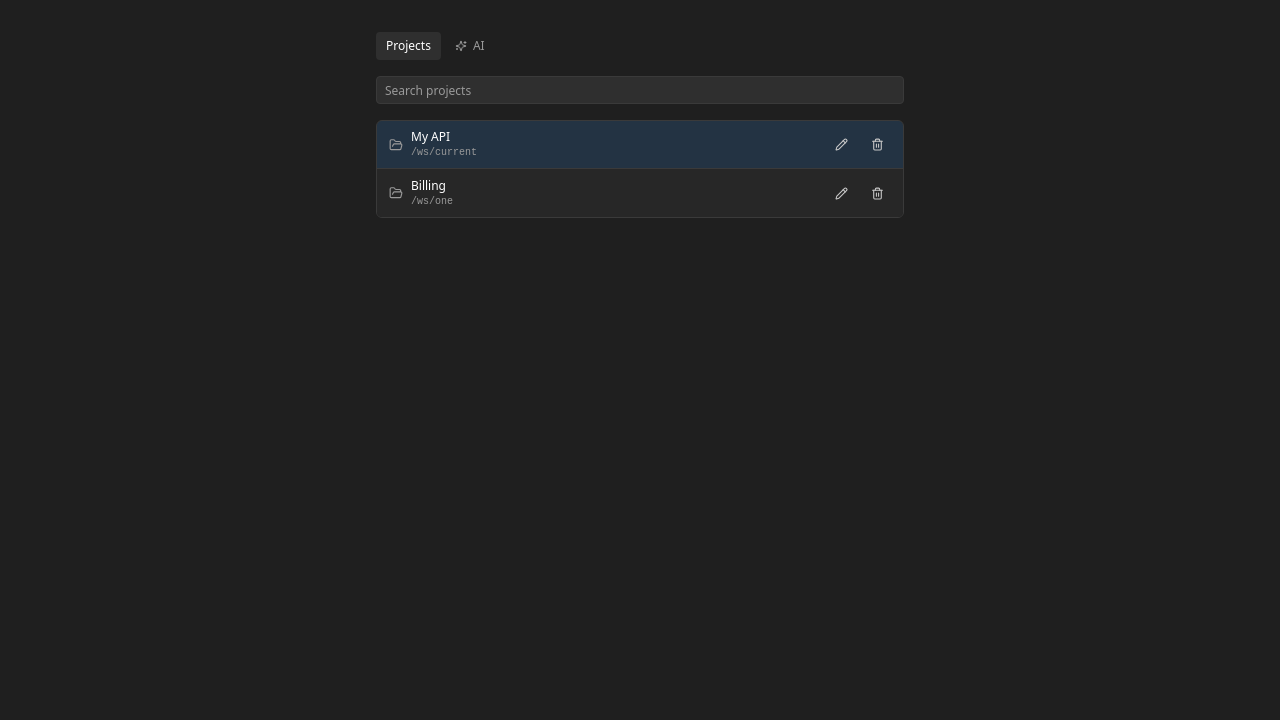
Test: Dashboard › renames a project
The width and height of the screenshot is (1280, 720).
Expected: the text "My API" is shown, [411,128,450,145]
Click the 1st button titled "Rename project" at (841, 144), box [827,130,855,158]
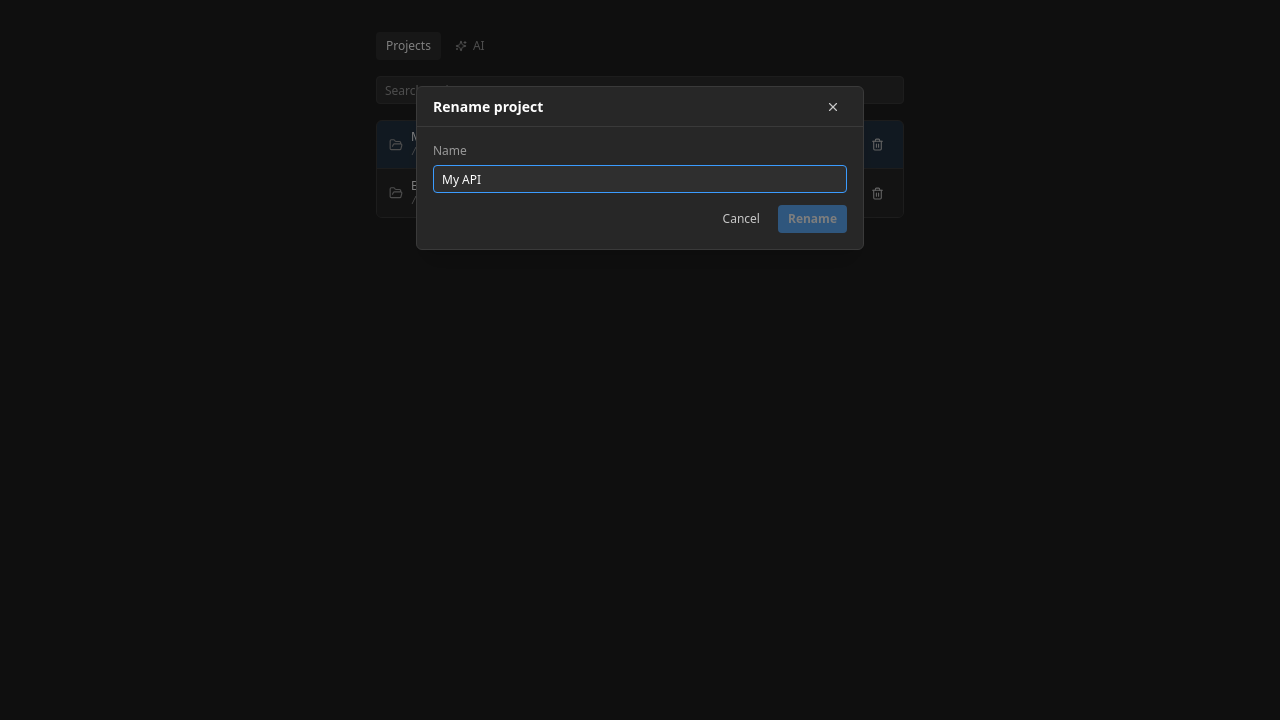
Replace the text in the field showing "My API" with "Renamed" at (640, 179), box [433,165,847,193]
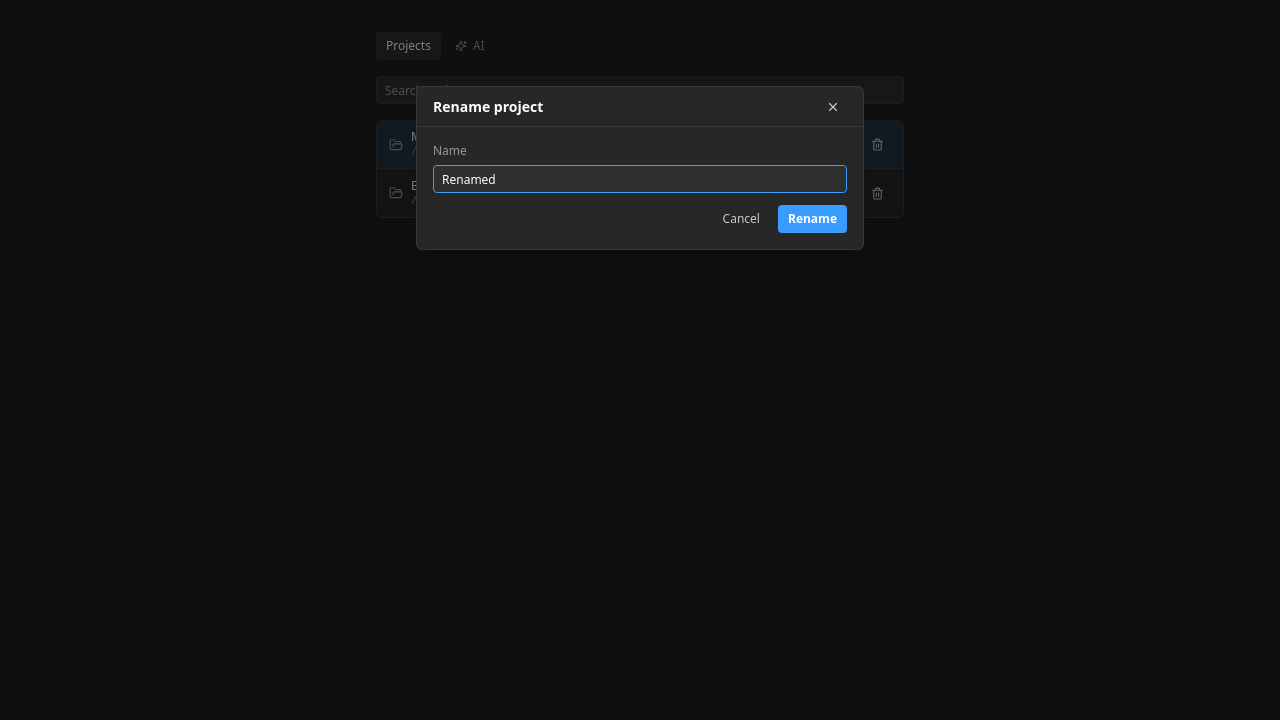
Click the button "Rename" at (812, 219), box [778,205,847,233]
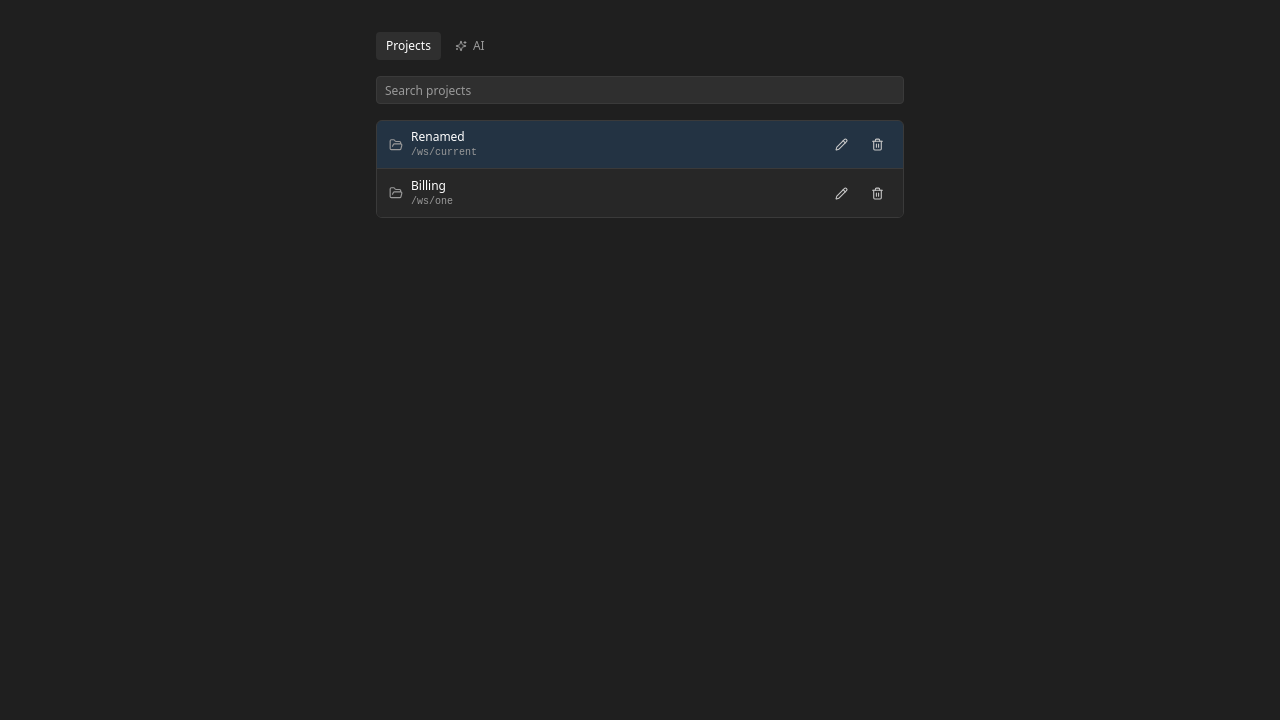
Result: the text "Renamed" is shown at [411,128,465,145]
